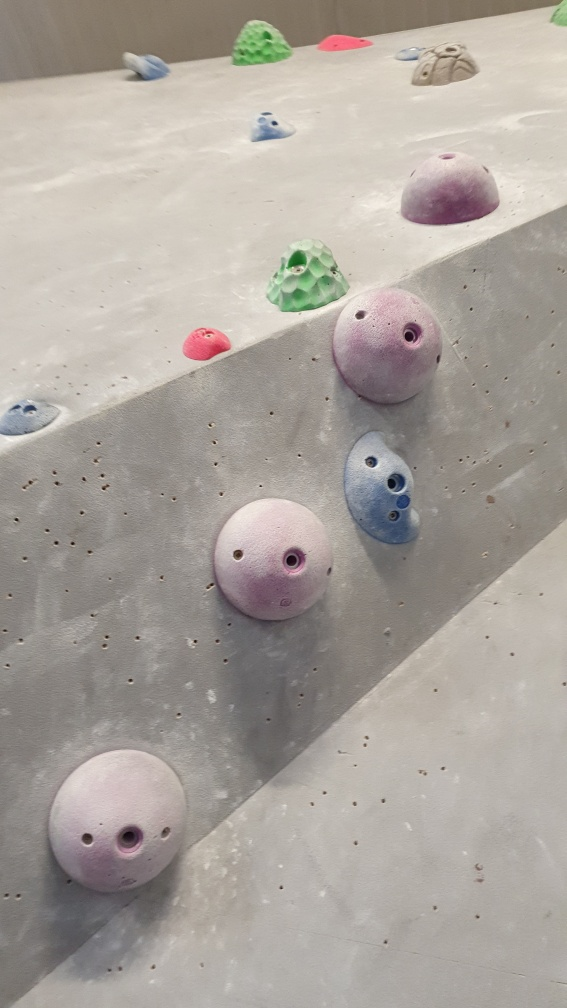Jug: (341, 428, 424, 547), (259, 235, 350, 312), (232, 17, 294, 62), (120, 50, 175, 84)
Pinch: (179, 324, 234, 362)
Sloper: (47, 744, 191, 896), (213, 498, 336, 624), (335, 290, 443, 408), (396, 154, 507, 228)
